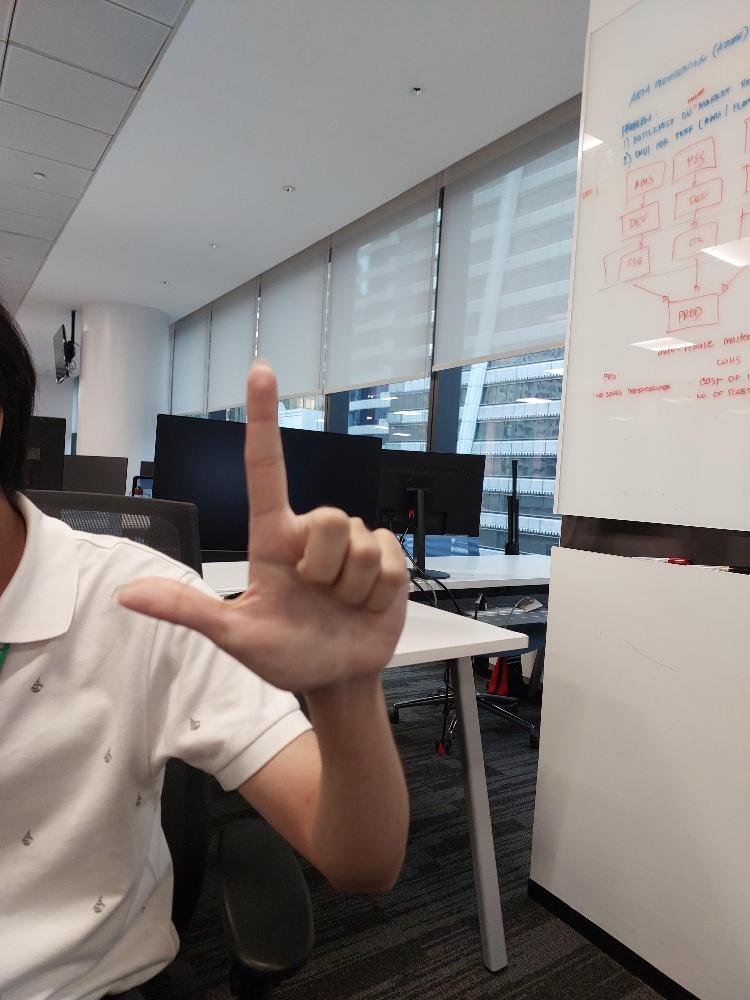l: (109, 356, 409, 694)
